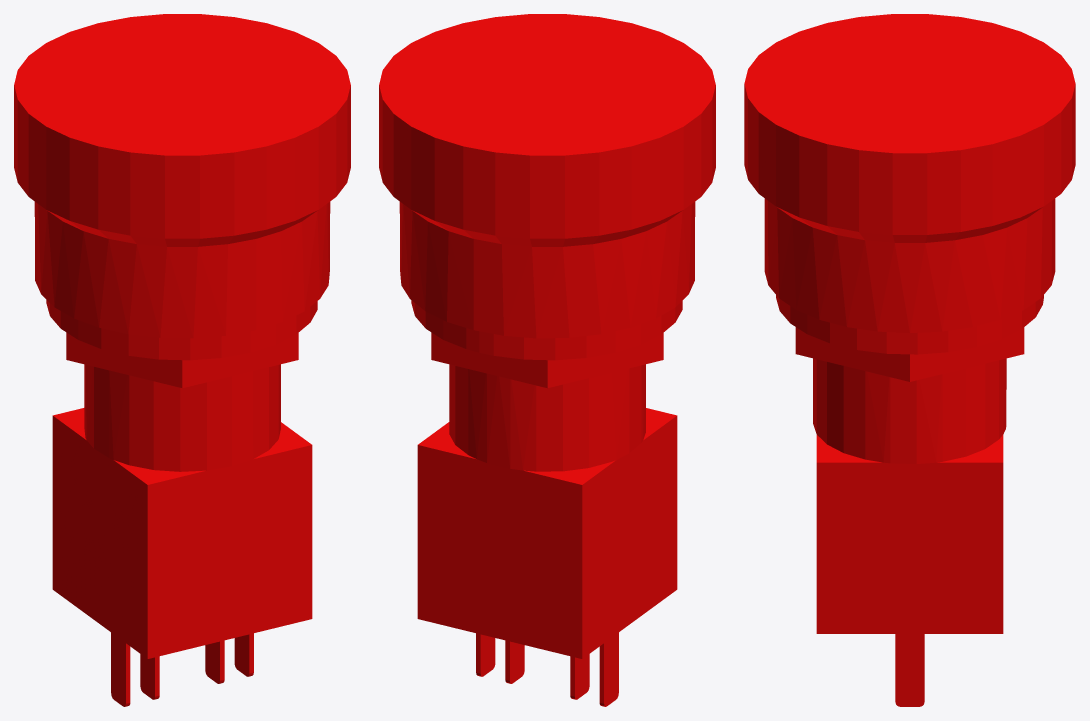
The model's file is emergency_stop.dae.
The picture shows the model from 3 angles, left to right: view 1: azimuth 30°, elevation 25°; view 2: azimuth 150°, elevation 25°; view 3: azimuth 270°, elevation 25°; orthographic projection.
Visible parts, largest first — view 1: skp625C (×8); view 2: skp625C (×8); view 3: skp625C (×5).
Boxes of the visible parts, x1,y1,x2,y2 form: skp625C (×8): [14, 14, 350, 706]; skp625C (×8): [379, 14, 715, 706]; skp625C (×5): [744, 14, 1075, 706].
Size of the model in its own units: 1.25 by 1.26 by 2.48.
